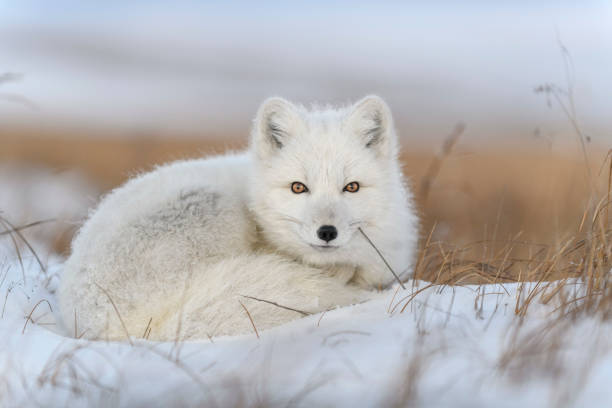arcticfox: (271, 143, 383, 265)
